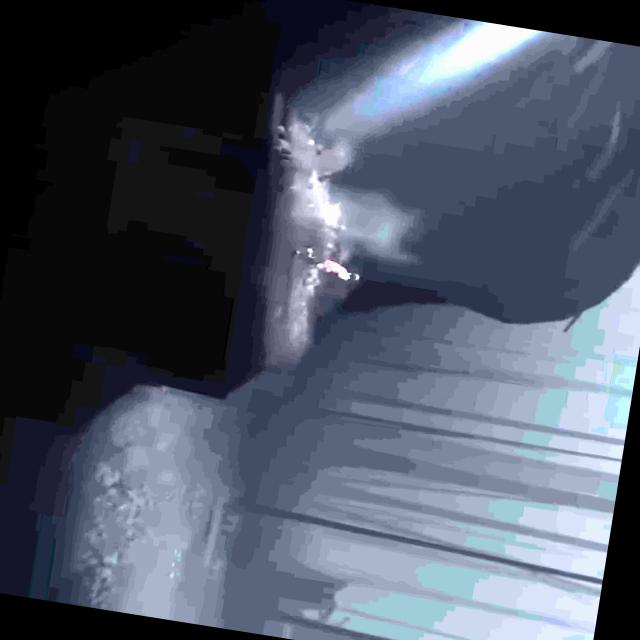boy: (300, 249, 360, 283)
